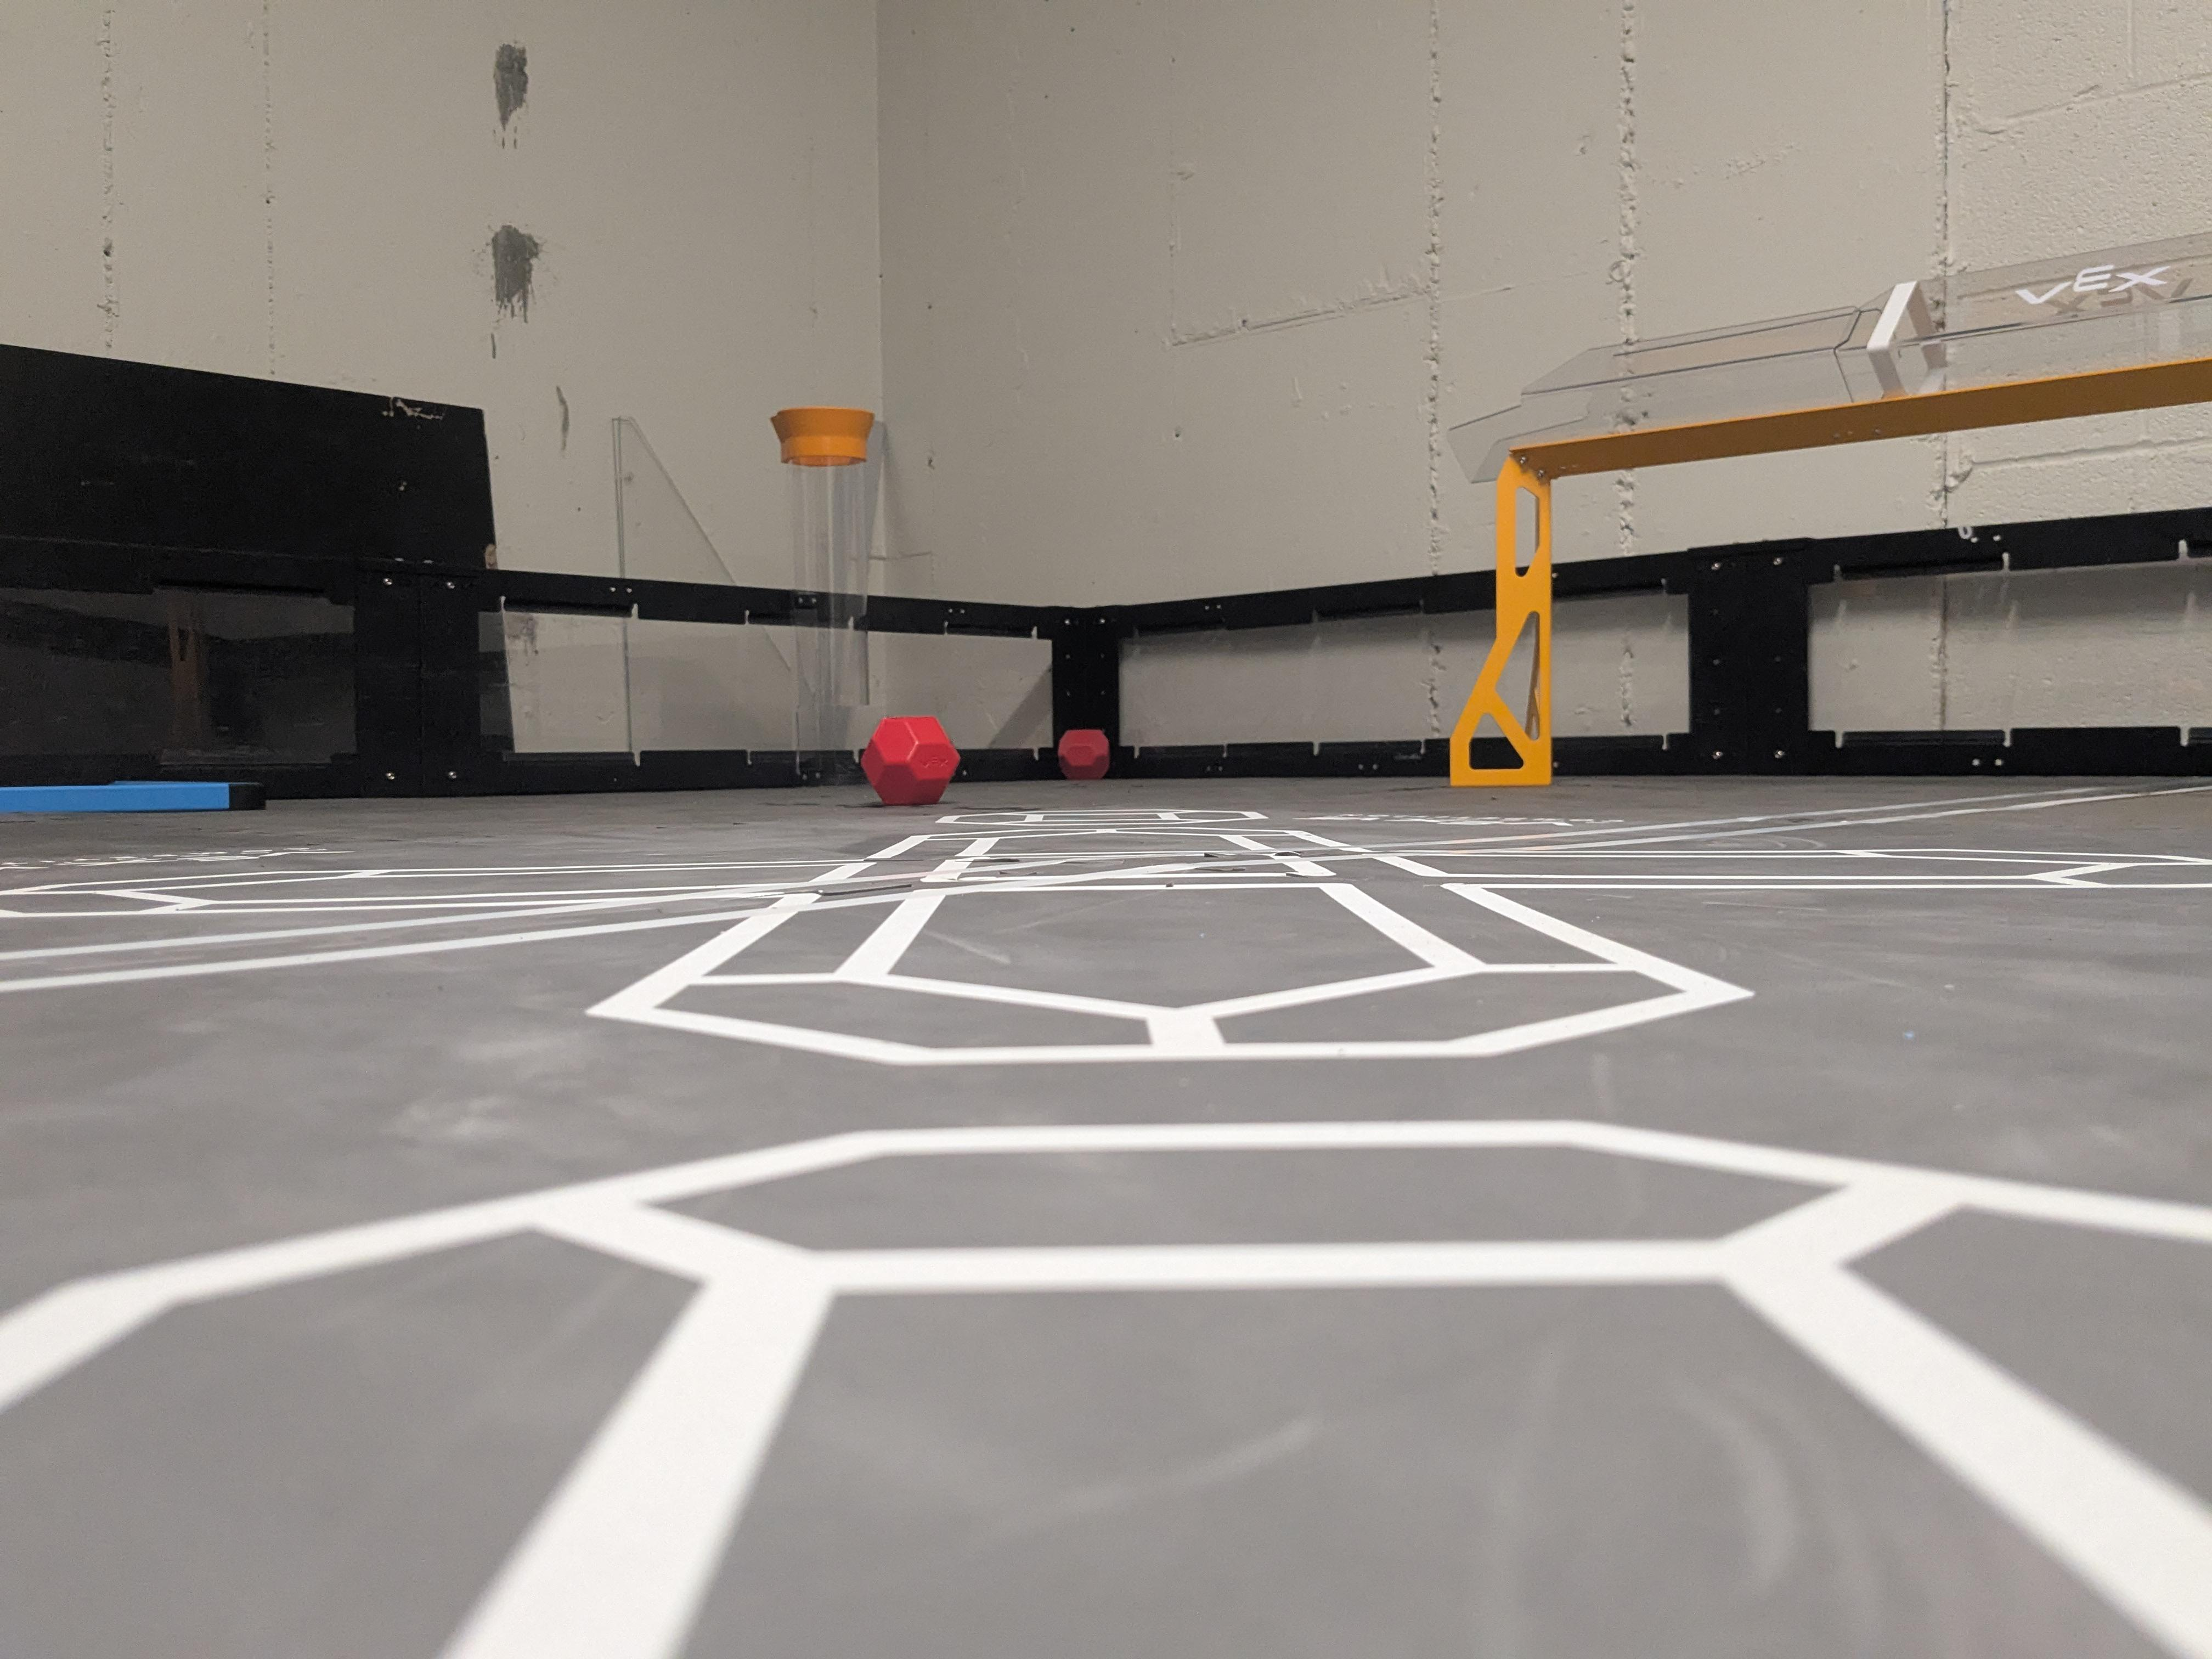Vex-Pieces-RED: (860, 716, 958, 805), (1055, 728, 1111, 779)
